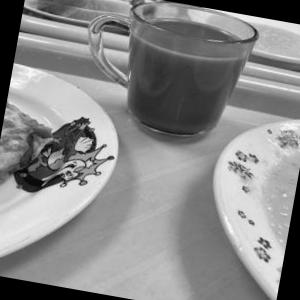coffee: (118, 0, 263, 145)
